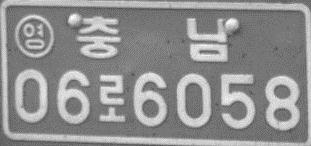0: (174, 72, 212, 128), (12, 67, 49, 124)
5: (218, 72, 257, 131)
6: (54, 70, 92, 125), (132, 71, 169, 127)
8: (264, 74, 302, 130)
로: (97, 72, 128, 124)
영: (13, 14, 54, 59)
충남_D: (75, 15, 230, 65)
